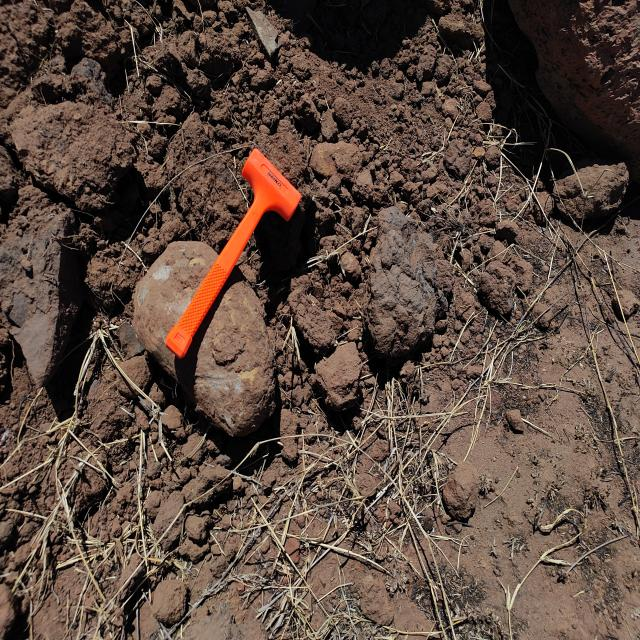Orange_hammer: (164, 146, 302, 360)
